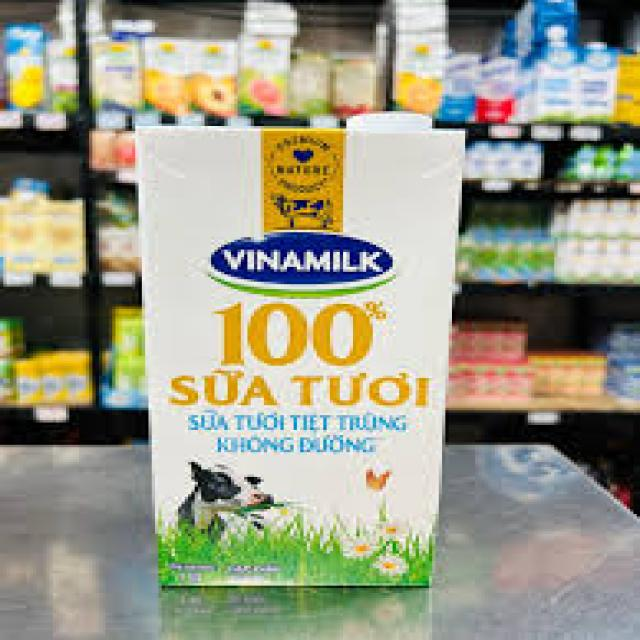non_white_jug: (114, 94, 477, 578)
